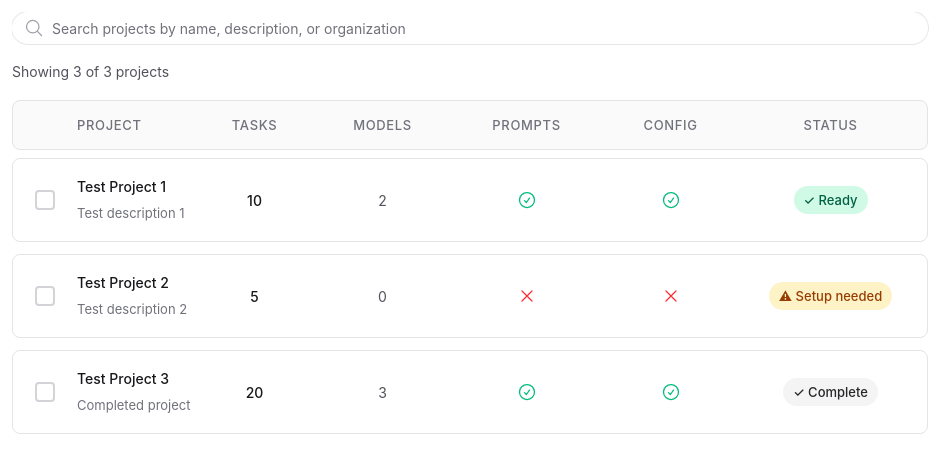
Test: ProjectSelector › Search Functionality › should update results count when searching
The image size is (946, 451).
Type "Project 1" into the search field with placeholder "Search projects by name, description, or organization" at (470, 28), box [12,12,928,44]
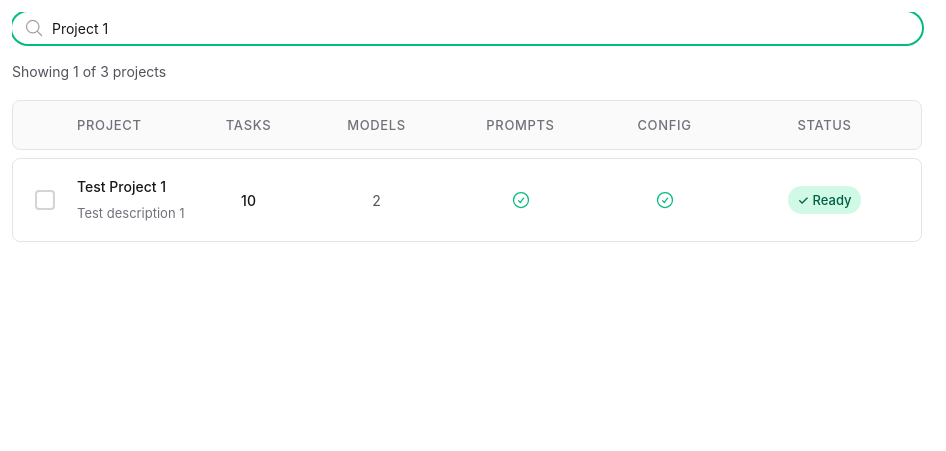
Expected: the text "Showing 1 of 3 projects" is shown, [12,60,166,84]
